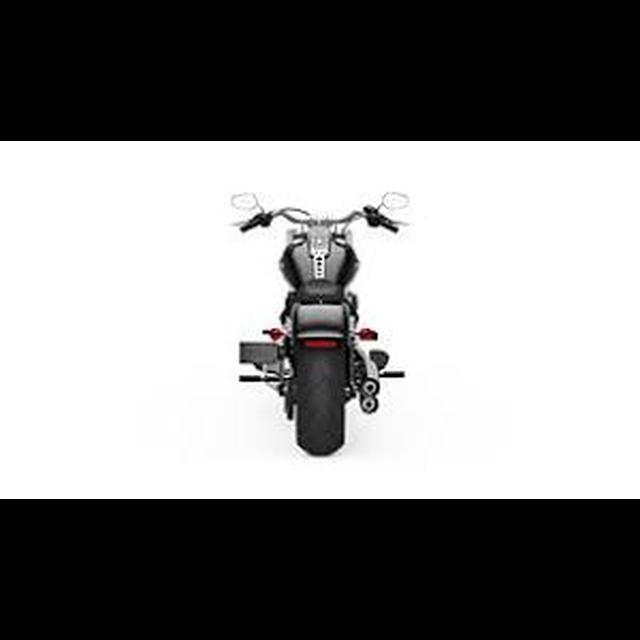motorcycle: (227, 185, 408, 461)
